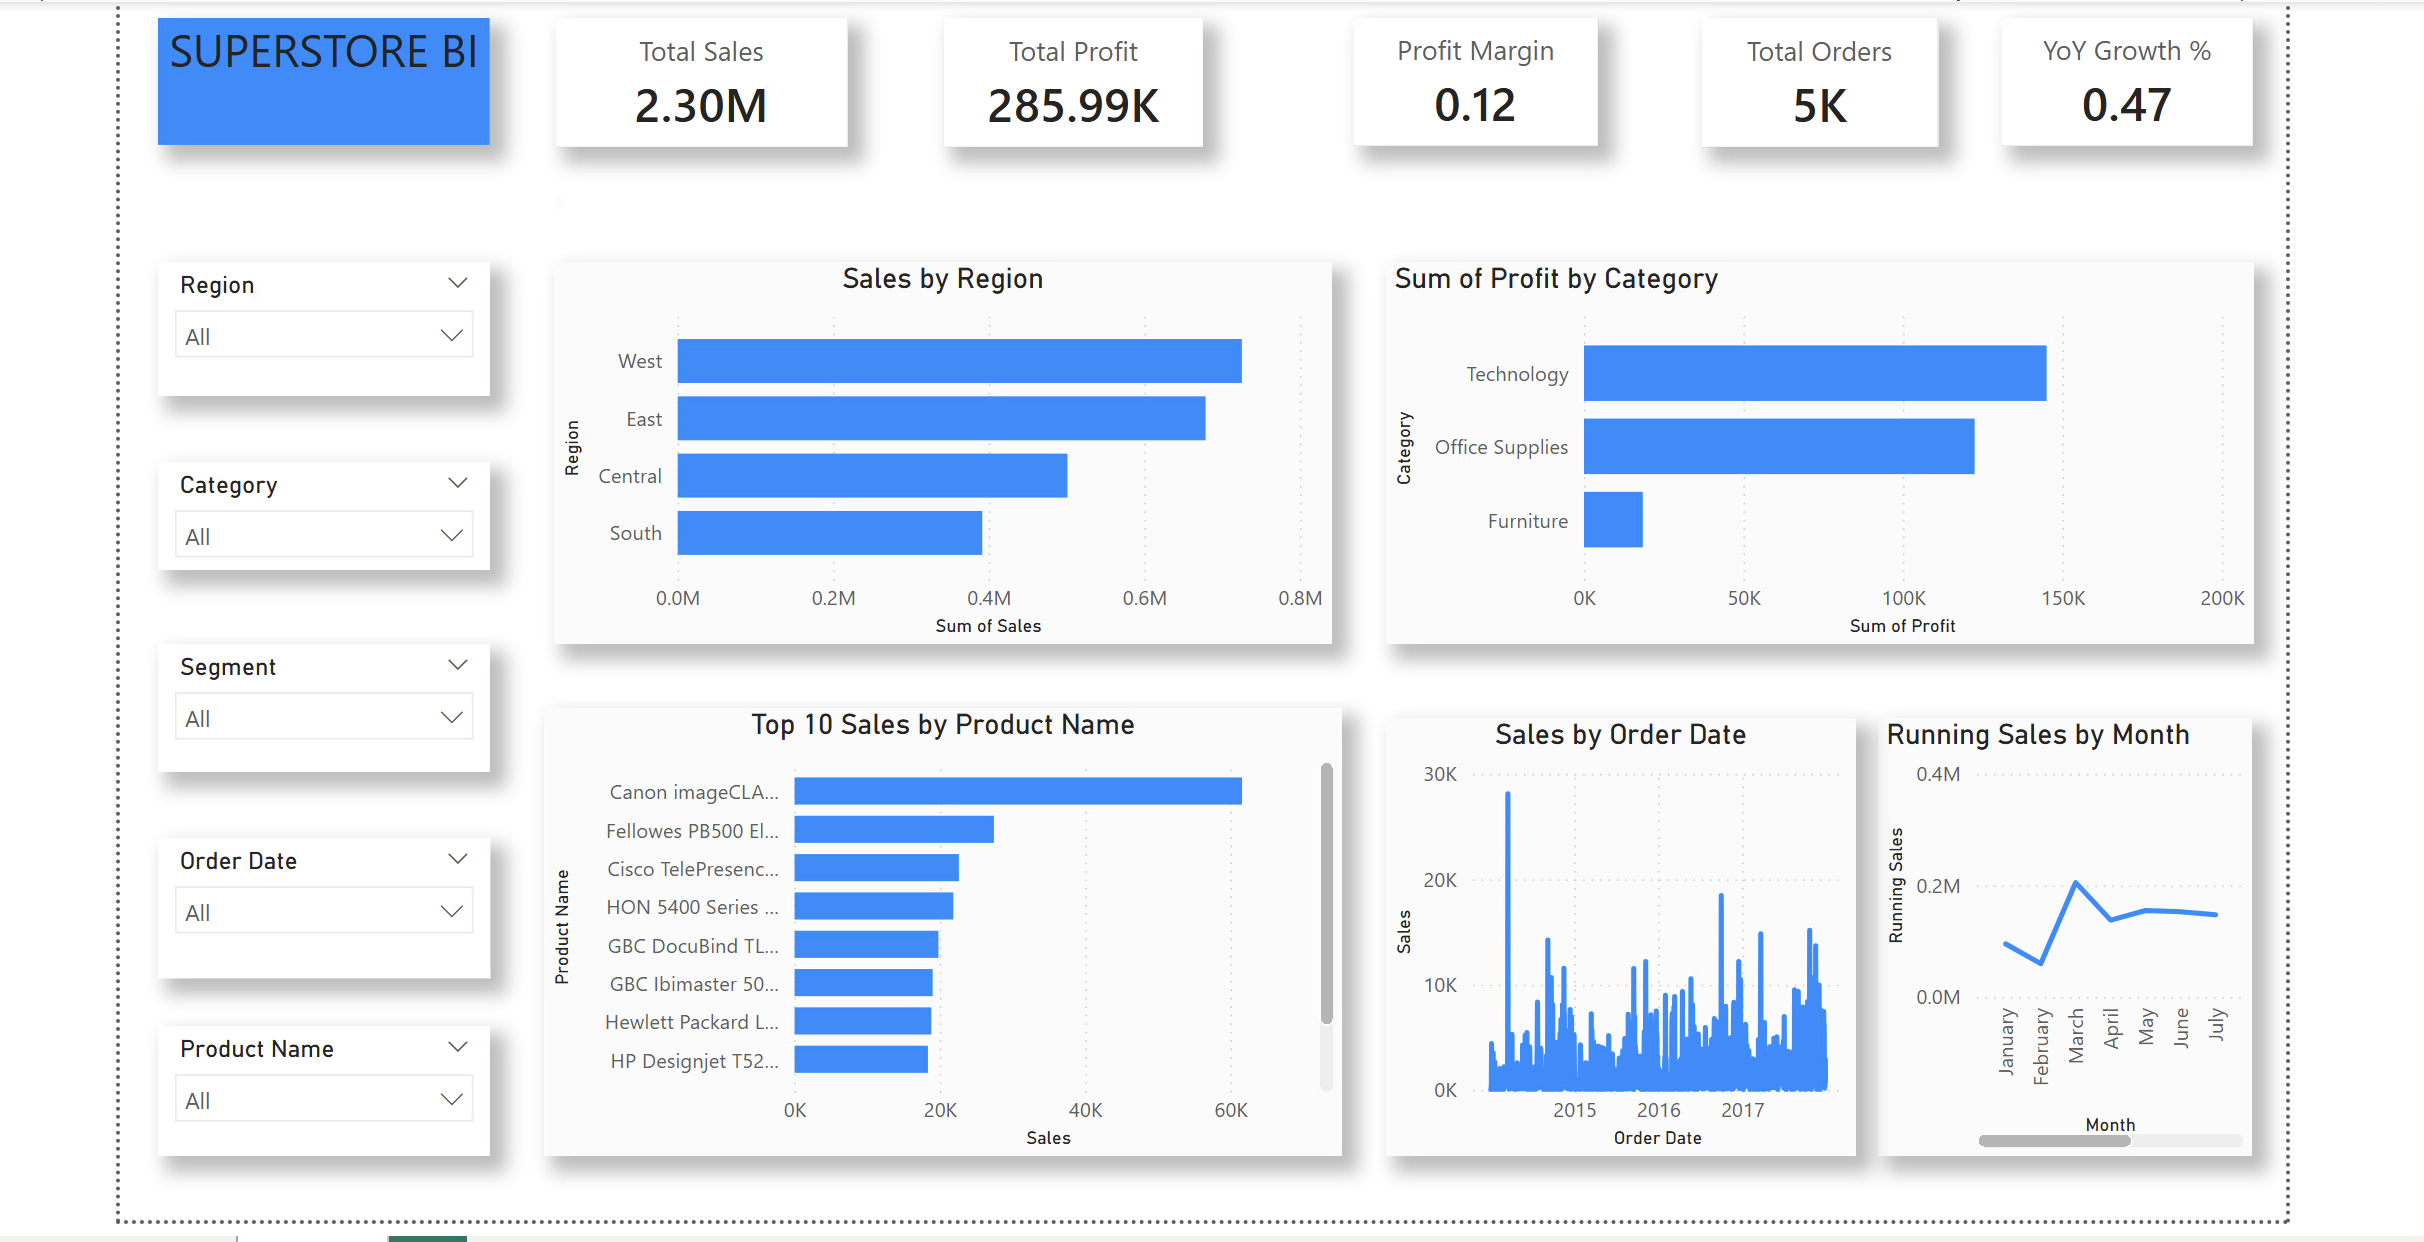

What the dashboard file says about the page in this screenshot:
{"tool":"powerbi","page":{"name":"Page 1","canvas":[1280,720],"ordinal":0},"visuals":[{"type":"cardVisual","fields":{"Data":["in.Total Sales"]},"box":[288.3,63.9,244.4,75],"z":2000},{"type":"cardVisual","fields":{"Data":["in.Total Profit"]},"box":[556.7,62.8,153.3,76.1],"z":3000},{"type":"cardVisual","fields":{"Data":["in.Profit Margin"]},"box":[752.2,63.9,143.9,75],"z":4000},{"type":"cardVisual","fields":{"Data":["in.Total Orders"]},"box":[931.1,62.8,139.4,76.1],"z":5000},{"type":"barChart","title":"Sales by Region","fields":{"Category":["in.Region"],"Y":["Sum(in.Sales)"]},"box":[288.3,168.9,414.4,231.1],"z":7000},{"type":"clusteredBarChart","fields":{"Category":["in.Category"],"Y":["Sum(in.Profit)"]},"box":[735.6,168.9,518.9,231.7],"z":8000},{"type":"lineChart","title":" Sales by Order Date","fields":{"Category":["in.Order Date"],"Y":["Sum(in.Sales)"]},"box":[735.6,411.7,290.6,257.2],"z":9000},{"type":"clusteredBarChart","title":" Sales by Product Name","fields":{"Category":["in.Product Name"],"Y":["Sum(in.Sales)"]},"box":[288.3,421.1,414.4,247.8],"z":10000},{"type":"slicer","fields":{"Values":["in.Region"]},"box":[16.7,168.9,196.1,78.9],"z":11000},{"type":"slicer","fields":{"Values":["in.Category"]},"box":[16.7,274.4,196.1,63.9],"z":12000},{"type":"slicer","fields":{"Values":["in.Segment"]},"box":[16.7,366.1,196.1,76.1],"z":13000},{"type":"slicer","fields":{"Values":["in.Order Date.Variation.Date Hierarchy.Year","in.Order Date.Variation.Date Hierarchy.Quarter","in.Order Date.Variation.Date Hierarchy.Month","in.Order Date.Variation.Date Hierarchy.Day"]},"box":[16.7,469.4,196.1,73.3],"z":14000},{"type":"slicer","fields":{"Values":["in.Product Name"]},"box":[16.7,570,196.1,97.2],"z":15000},{"type":"lineChart","fields":{"Category":["in.Order Date.Variation.Date Hierarchy.Month"],"Y":["in.Running Sales"]},"box":[1033.9,416.7,220.6,252.2],"z":16000},{"type":"cardVisual","fields":{"Data":["in.YoY Growth %"]},"box":[1106.1,63.9,148.3,75],"z":17000},{"type":"textbox","box":[16.7,63.9,196.1,75],"z":17001}]}

Visuals, with their boxes on the page's 1280x720 design canvas (x1, y1, x2, y2). These are canvas units, not pixel positions in the 2424x1242 screenshot, which may show the page scaled, cropped or inside an application window:
cardVisual - in.Total Sales: bbox(288, 64, 533, 139)
cardVisual - in.Total Profit: bbox(557, 63, 710, 139)
cardVisual - in.Profit Margin: bbox(752, 64, 896, 139)
cardVisual - in.Total Orders: bbox(931, 63, 1070, 139)
"Sales by Region" barChart: bbox(288, 169, 703, 400)
clusteredBarChart - in.Category x Sum(in.Profit): bbox(736, 169, 1254, 401)
" Sales by Order Date" lineChart: bbox(736, 412, 1026, 669)
" Sales by Product Name" clusteredBarChart: bbox(288, 421, 703, 669)
slicer - in.Region: bbox(17, 169, 213, 248)
slicer - in.Category: bbox(17, 274, 213, 338)
slicer - in.Segment: bbox(17, 366, 213, 442)
slicer - in.Order Date.Variation.Date Hierarchy.Year x in.Order Date.Variation.Date Hierarchy.Quarter: bbox(17, 469, 213, 543)
slicer - in.Product Name: bbox(17, 570, 213, 667)
lineChart - in.Order Date.Variation.Date Hierarchy.Month x in.Running Sales: bbox(1034, 417, 1254, 669)
cardVisual - in.YoY Growth %: bbox(1106, 64, 1254, 139)
textbox: bbox(17, 64, 213, 139)
